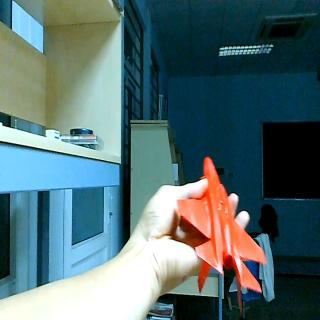Jet: (176, 153, 266, 312)
